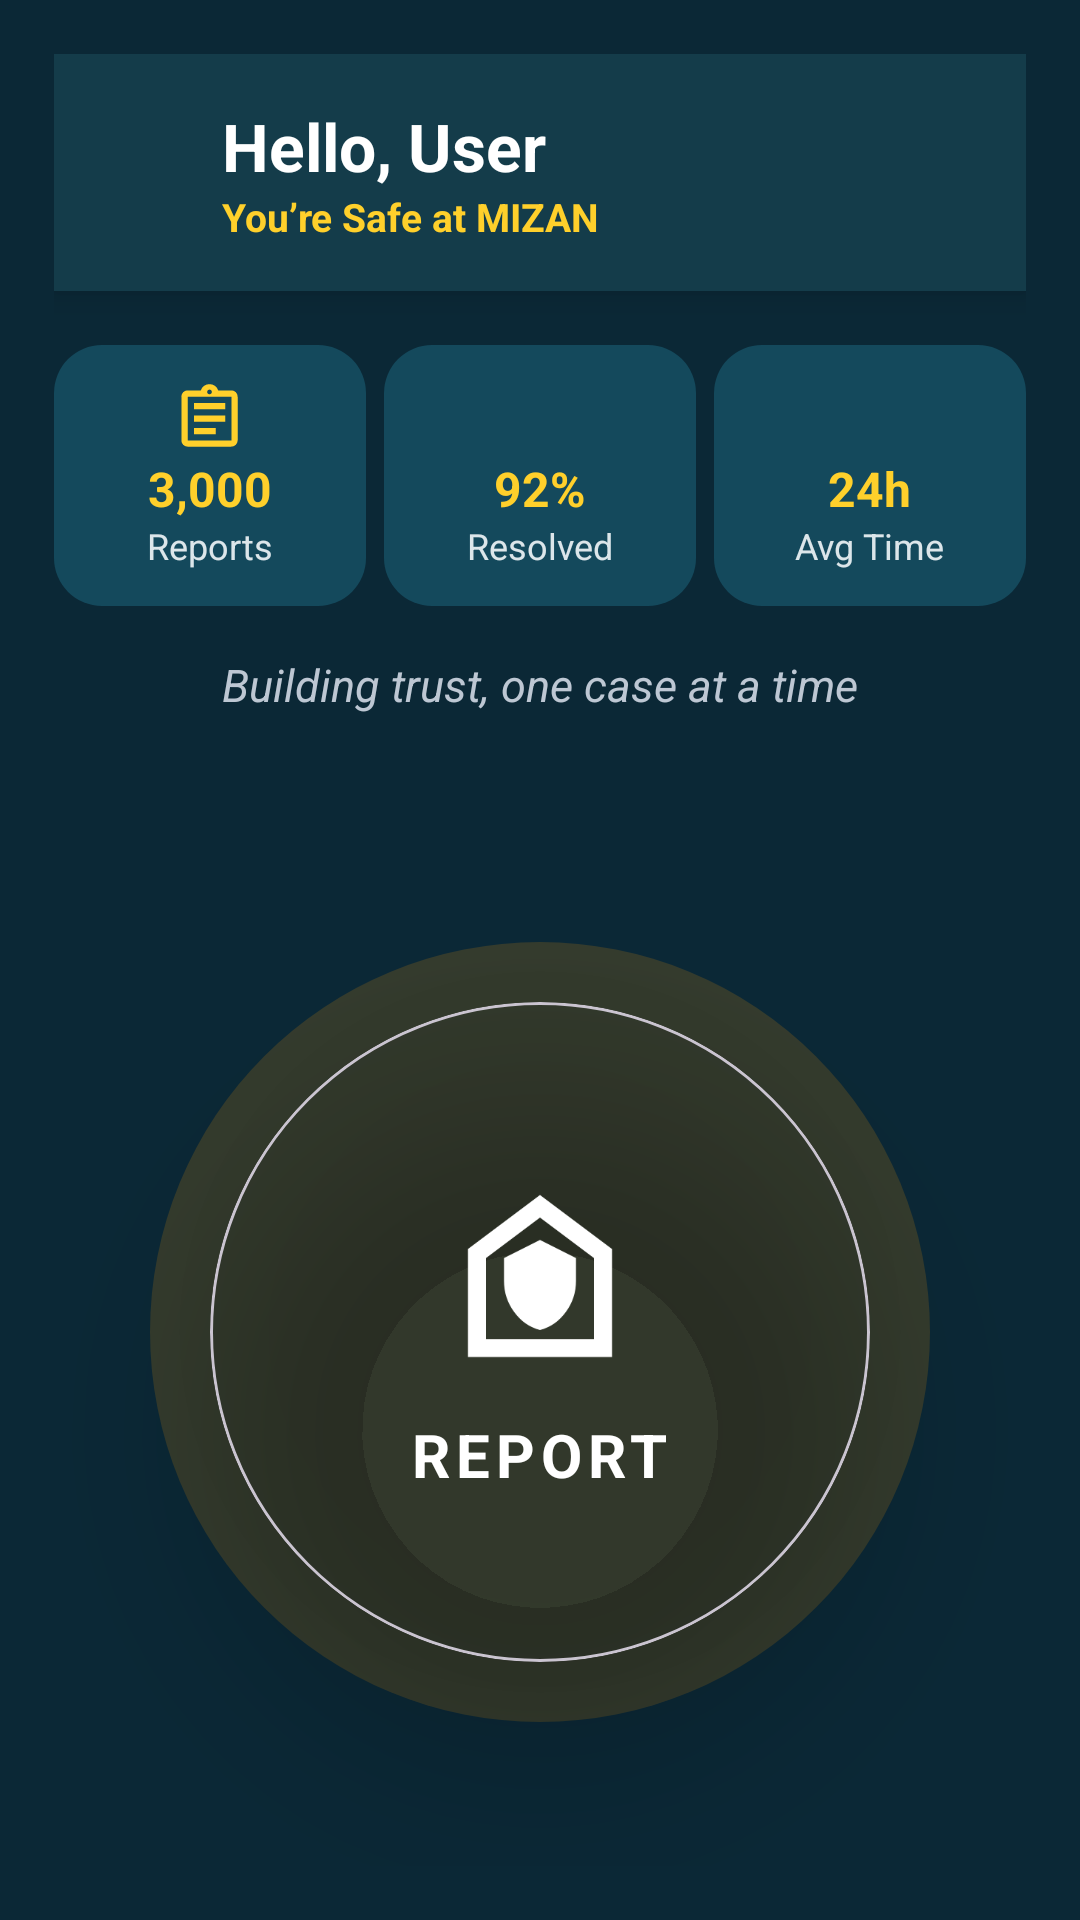

Locate icon controls on the screen. Image size 1080x1920, boxes as BBox(x1, y1, x2, y2).
cases: BBox(181, 384, 238, 447)
